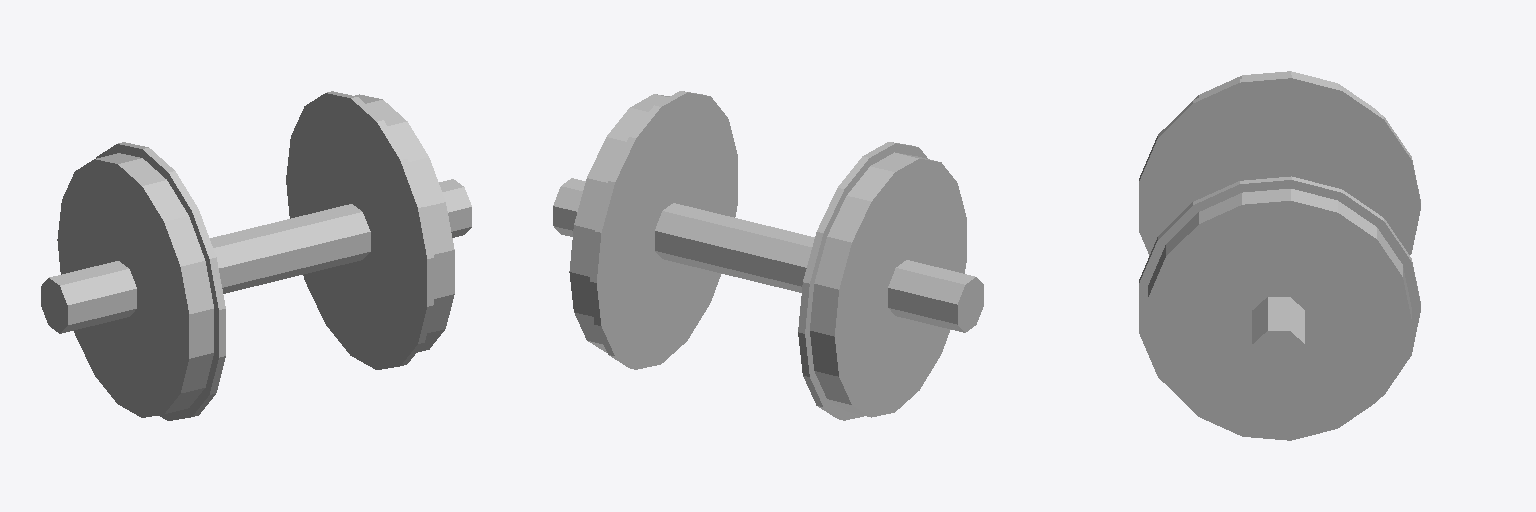
File: dfh21_wheel.obj
3 renders of one model, left to right at view 1: azimuth 30°, elevation 25°; view 2: azimuth 150°, elevation 25°; view 3: azimuth 270°, elevation 25°, orthographic.
Visible parts, largest first — view 1: cylinder_selection_selection_selection_selection; view 2: cylinder_selection_selection_selection_selection; view 3: cylinder_selection_selection_selection_selection.
Part boxes in pixels (left/top/right/bottom): cylinder_selection_selection_selection_selection: left=41, top=91, right=471, bottom=420; cylinder_selection_selection_selection_selection: left=553, top=91, right=983, bottom=420; cylinder_selection_selection_selection_selection: left=1139, top=71, right=1420, bottom=440.
Size of the model in its own units: 1.88 by 1.14 by 1.13.